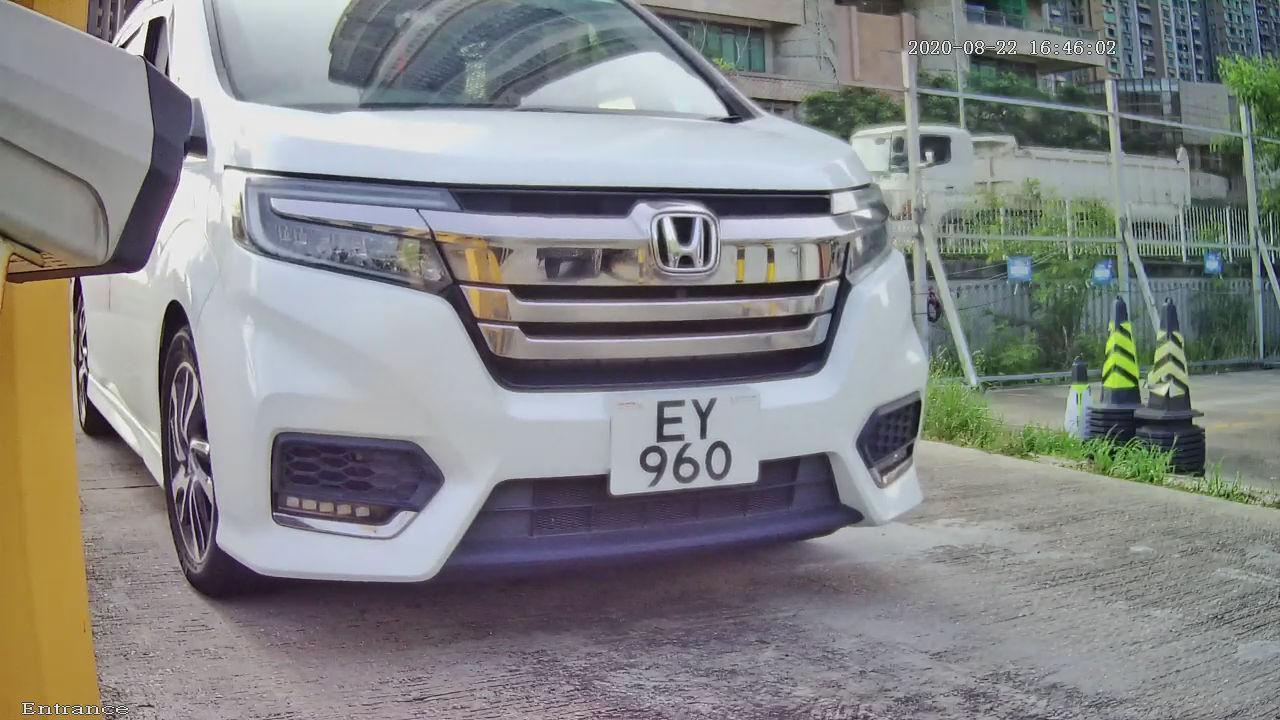Car: (41, 1, 1001, 656)
License Plate: (589, 373, 778, 508)
